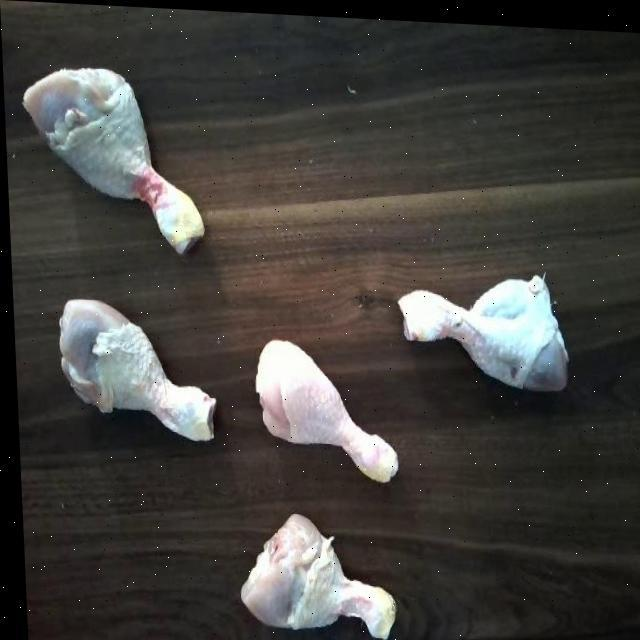leg: (22, 62, 202, 252), (54, 290, 225, 452), (241, 327, 392, 482), (224, 506, 396, 640), (387, 272, 566, 389)
